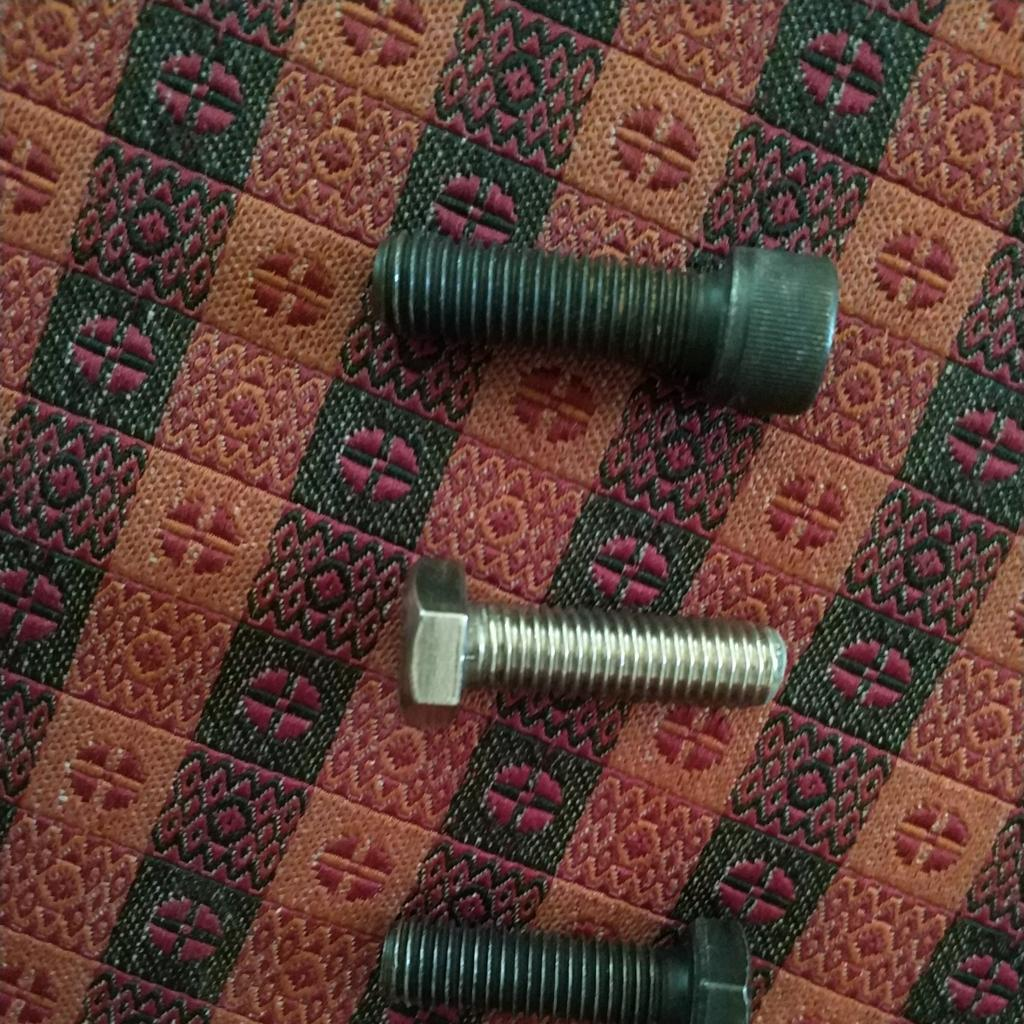screwtype1black: (361, 219, 836, 419)
screwtype2black: (371, 902, 756, 1024)
screwtype2silver: (392, 546, 789, 755)
